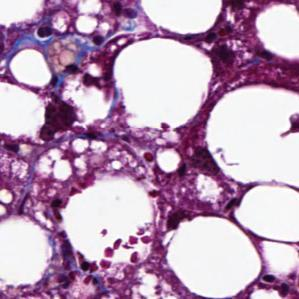inflammation: (41, 92, 90, 144), (29, 11, 64, 52)
